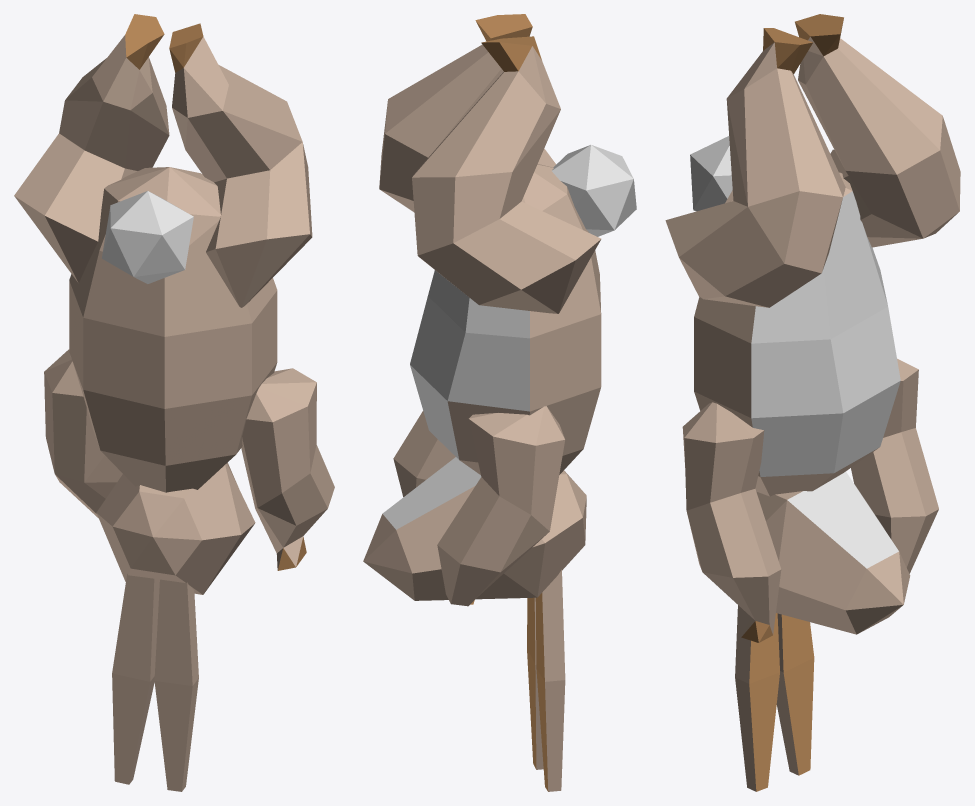
Rendered from rabbit_carcass.fbx.
3 views of the same model, side by side, from view 1: azimuth 30°, elevation 25°; view 2: azimuth 150°, elevation 25°; view 3: azimuth 270°, elevation 25° (orthographic). The views are drawn at different scales.
Visible parts, largest first — view 1: rabbit_carcass; view 2: rabbit_carcass; view 3: rabbit_carcass.
Part boxes in pixels (x1,y1,x2,y2): rabbit_carcass: [14, 14, 334, 791]; rabbit_carcass: [363, 14, 636, 791]; rabbit_carcass: [665, 14, 960, 791].
Size of the model in its own units: 21.72 by 63.09 by 21.92.
